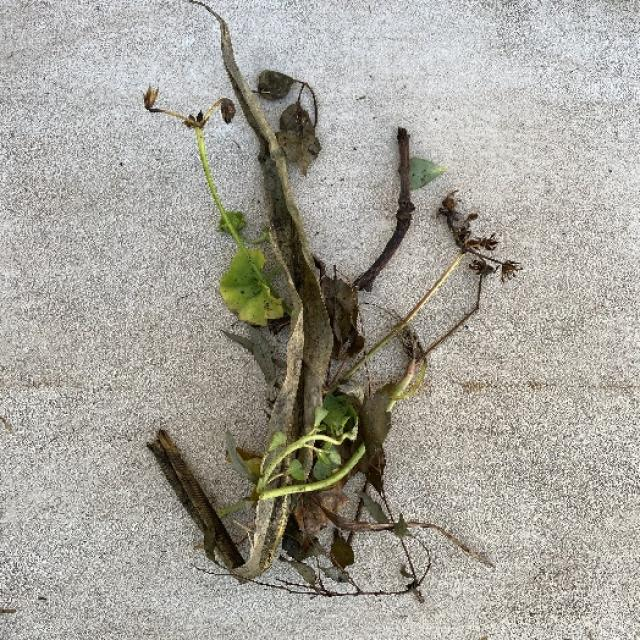organik: (115, 0, 512, 611)
